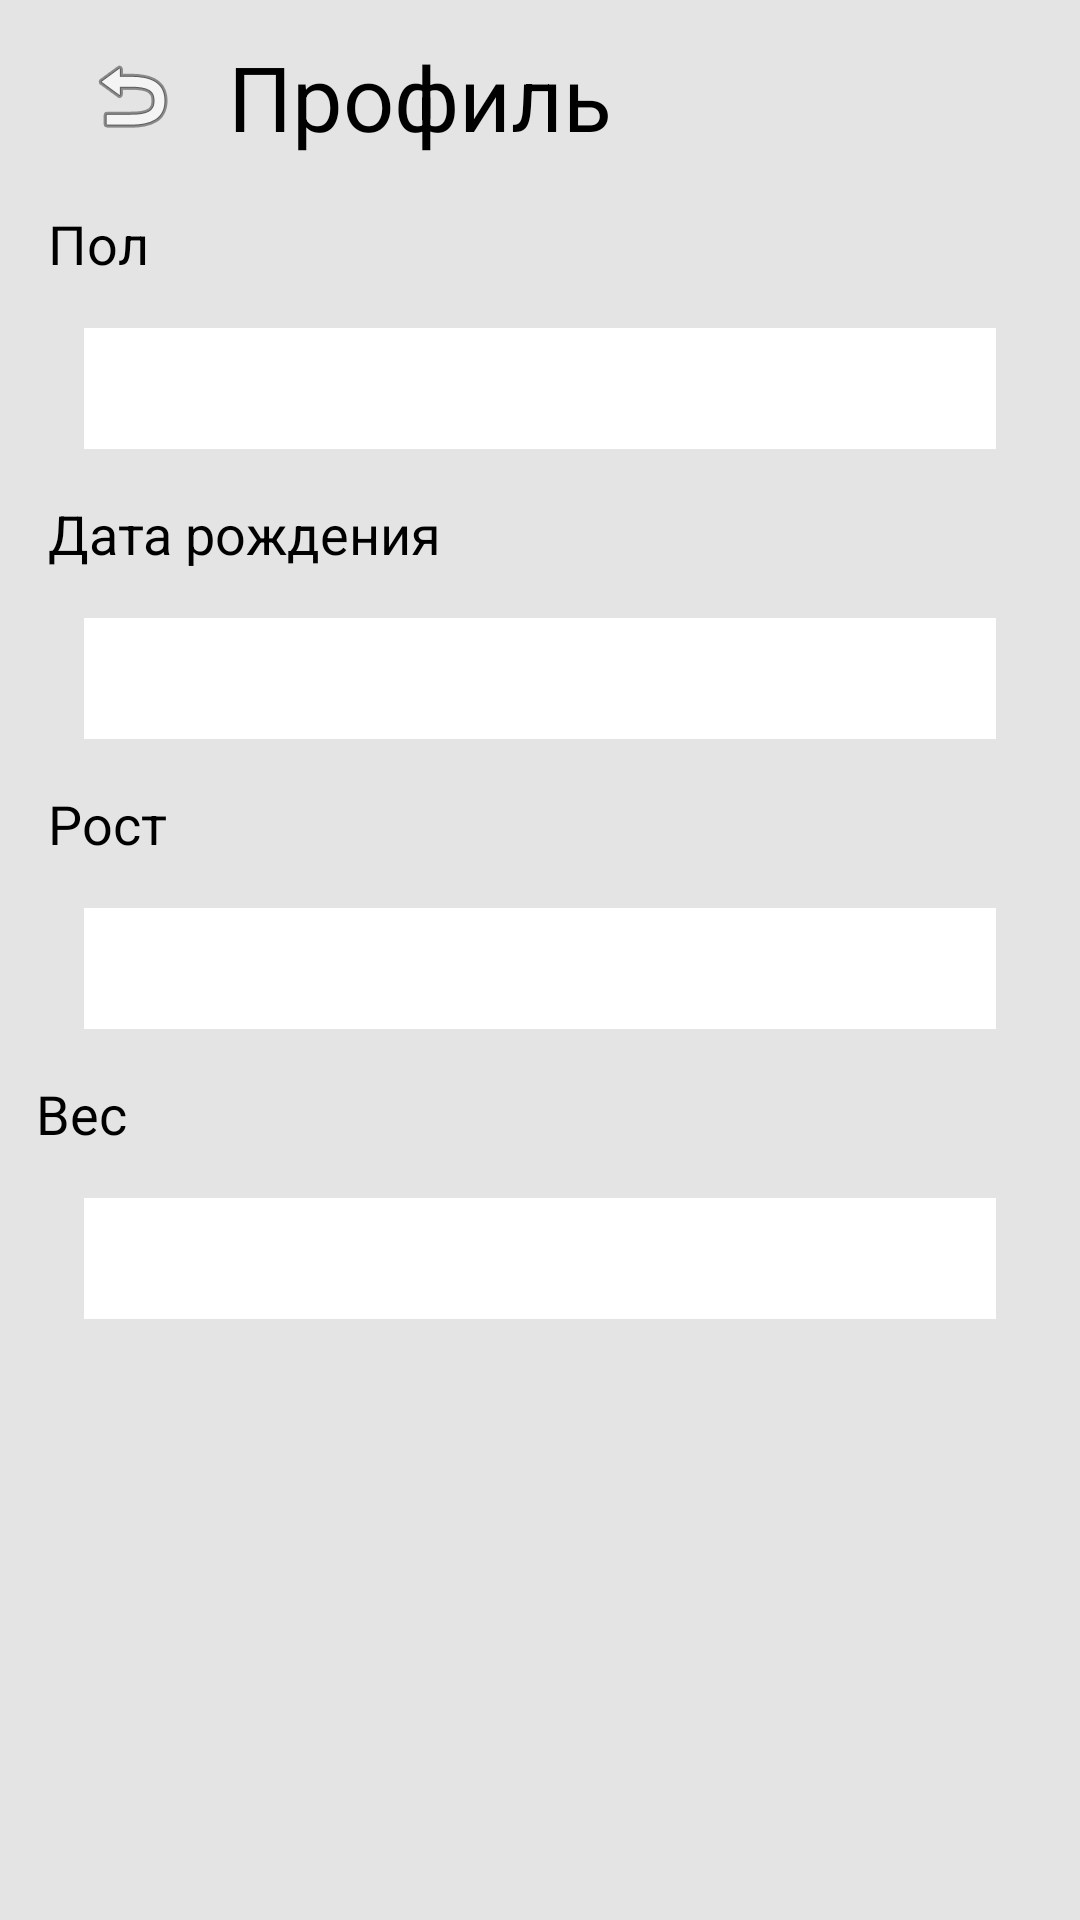

Icons on this 1080w x 1920h Android screen, each with the point to tap as point (x, y):
Назад: point (133, 96)
